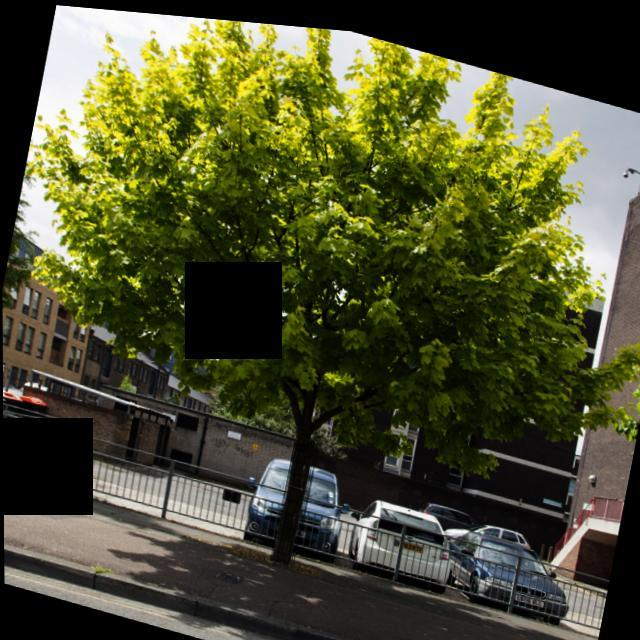Tree: (1, 1, 640, 630), (1, 23, 81, 480), (597, 253, 640, 535)
